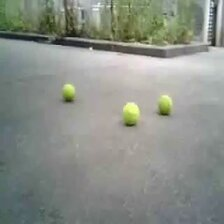tennis: (123, 103, 139, 124), (156, 96, 173, 115), (60, 83, 75, 99)
